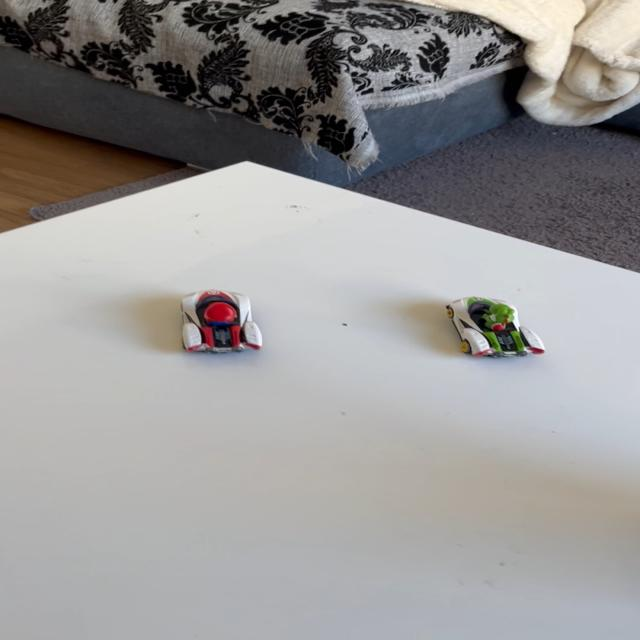mario: (162, 284, 276, 364)
yoshi: (432, 289, 553, 365)
